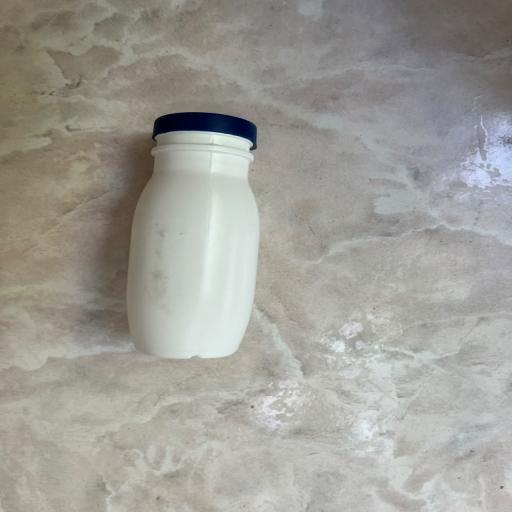HDPE: (128, 89, 294, 389)
